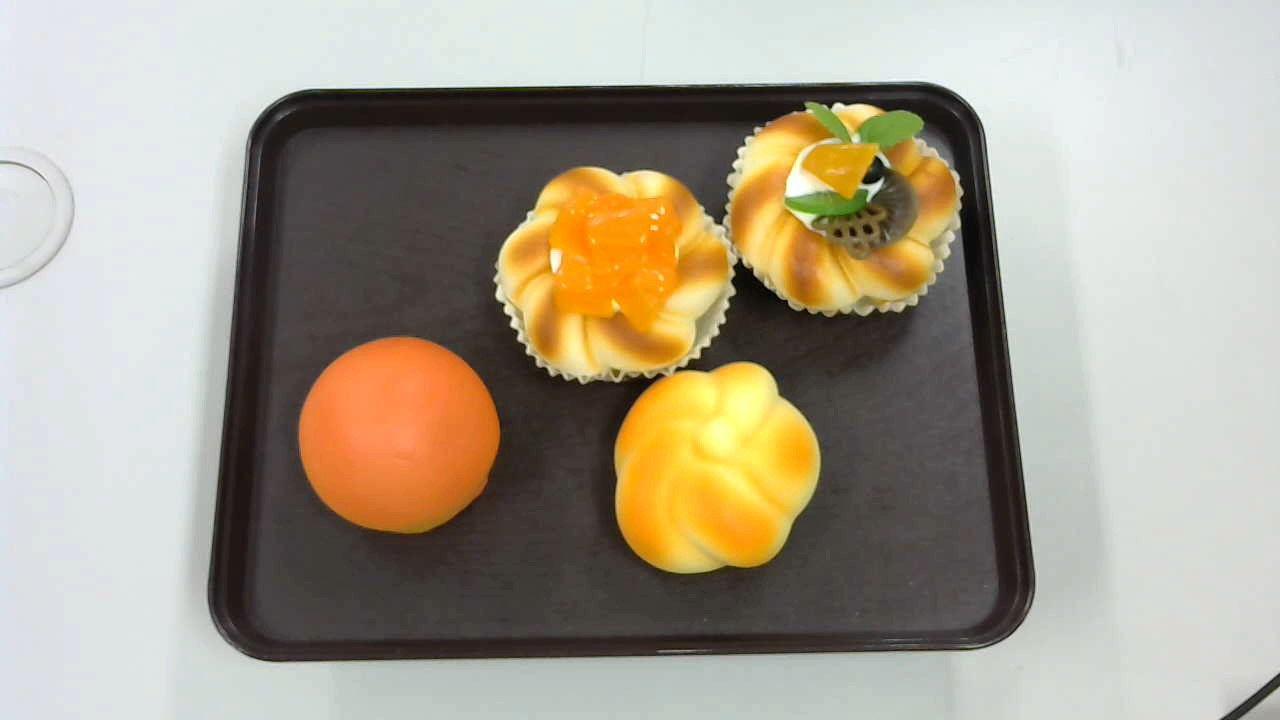bun: (298, 335, 502, 538)
fruit tart: (725, 101, 964, 317)
mango tart: (498, 163, 738, 383)
twist bread: (614, 362, 823, 573)
